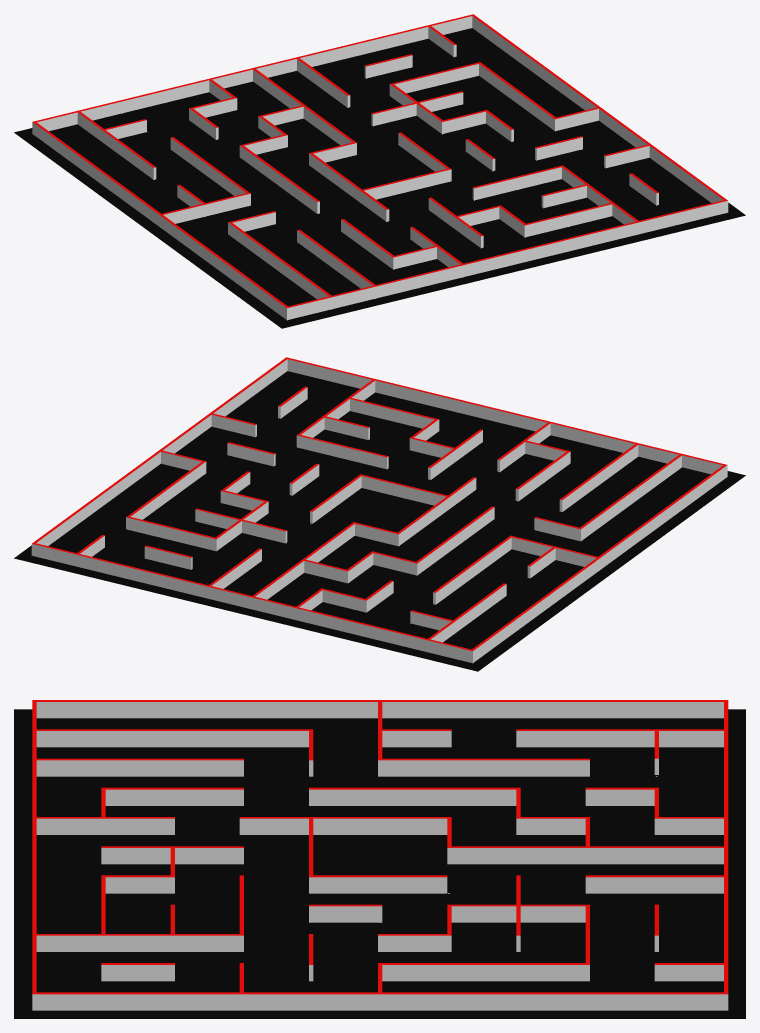
Rendered from minus_visual.dae.
3 views of the same model, one above another, from view 1: azimuth 30°, elevation 25°; view 2: azimuth 150°, elevation 25°; view 3: azimuth 270°, elevation 25° (orthographic). The views are drawn at different scales.
Visible parts, largest first — view 1: _Assemb_11_05_v3_Root_color-2, _Assemb_11_05_v3_Root_white, _Assemb_11_05_v3_Root_color; view 2: _Assemb_11_05_v3_Root_color-2, _Assemb_11_05_v3_Root_white, _Assemb_11_05_v3_Root_color; view 3: _Assemb_11_05_v3_Root_color-2, _Assemb_11_05_v3_Root_white, _Assemb_11_05_v3_Root_color.
Part boxes in pixels (x1,y1,x2,y2): _Assemb_11_05_v3_Root_color-2: [14, 28, 745, 328]; _Assemb_11_05_v3_Root_white: [32, 16, 728, 319]; _Assemb_11_05_v3_Root_color: [32, 14, 727, 308]; _Assemb_11_05_v3_Root_color-2: [14, 371, 745, 671]; _Assemb_11_05_v3_Root_white: [31, 359, 727, 663]; _Assemb_11_05_v3_Root_color: [32, 357, 726, 651]; _Assemb_11_05_v3_Root_color-2: [14, 709, 745, 1018]; _Assemb_11_05_v3_Root_white: [32, 702, 728, 1010]; _Assemb_11_05_v3_Root_color: [32, 700, 728, 994].
Bounding box in the file's own units: 2.03 × 2.03 × 0.0532.
